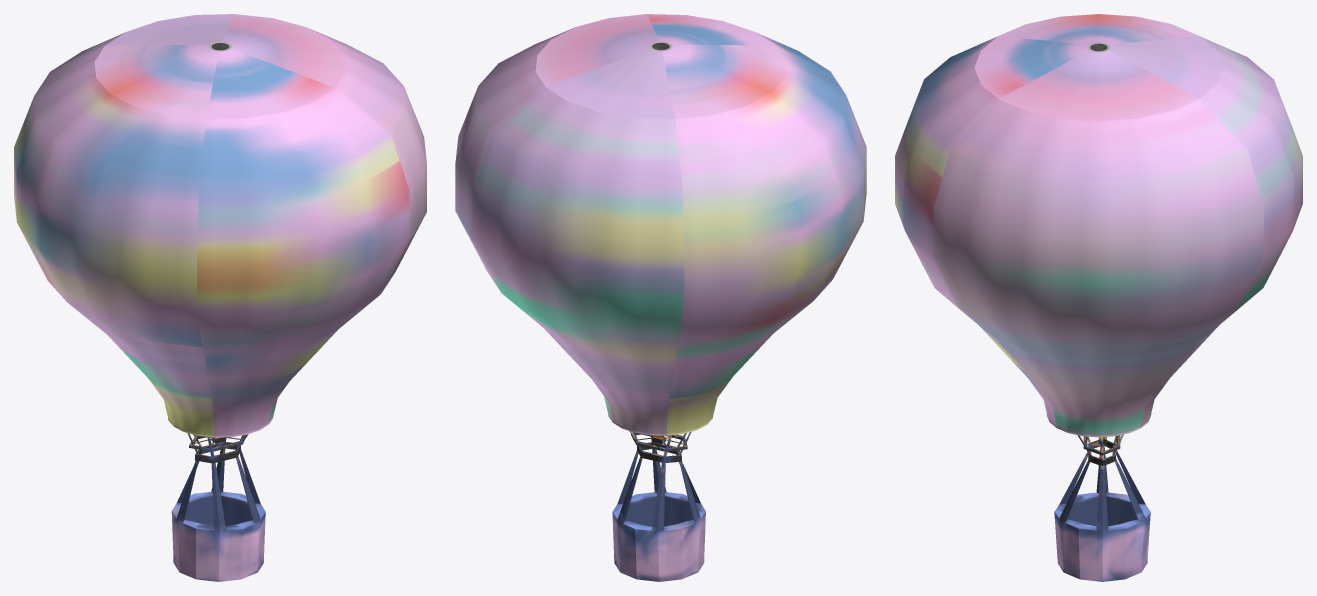
File: testing12.fbx
The picture shows the model from 3 angles, left to right: view 1: azimuth 30°, elevation 25°; view 2: azimuth 150°, elevation 25°; view 3: azimuth 270°, elevation 25°; orthographic projection.
Visible parts, largest first — view 1: pCylinder1, pDisc1; view 2: pCylinder1, pDisc1; view 3: pCylinder1, pDisc1.
Boxes of the visible parts, x1,y1,x2,y2 form: pCylinder1: (14, 14, 426, 437); pDisc1: (171, 433, 265, 581); pCylinder1: (455, 14, 866, 435); pDisc1: (612, 431, 705, 581); pCylinder1: (895, 14, 1302, 437); pDisc1: (1054, 434, 1150, 581).
Bounding box in the file's own units: 373 × 510 × 366.
Materials: 1 (1 with a texture image).
